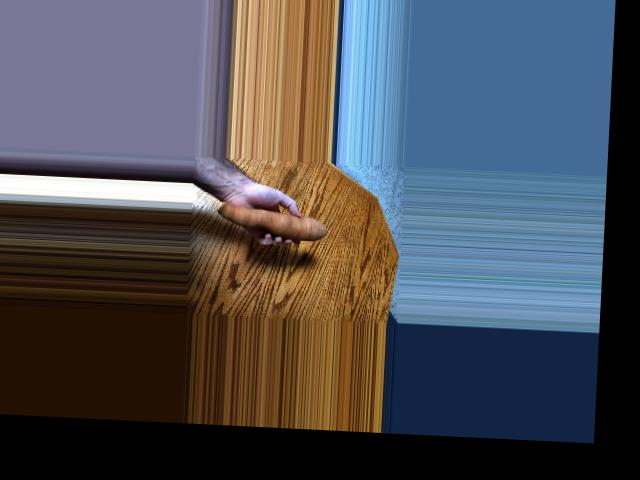sweet_potato: (221, 201, 328, 249)
